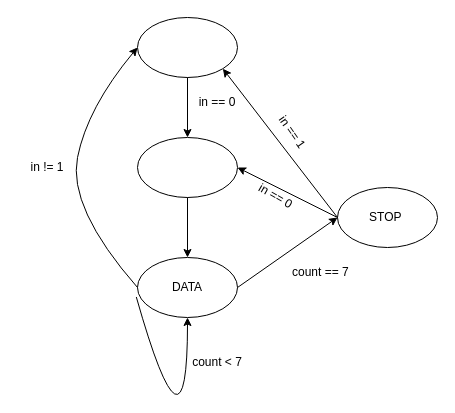
This 455x413 diagram has some shape labels left out. Each missing label, with the centre of its shape:
"START" goes at [187,167].
"WAIT" goes at [187,47].
